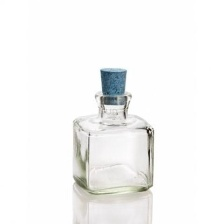bottle: (65, 89, 168, 195)
